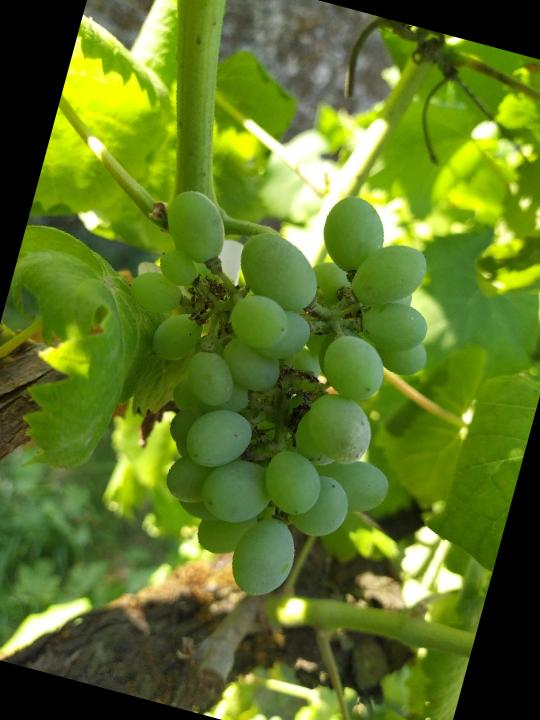grape: (54, 138, 471, 633)
